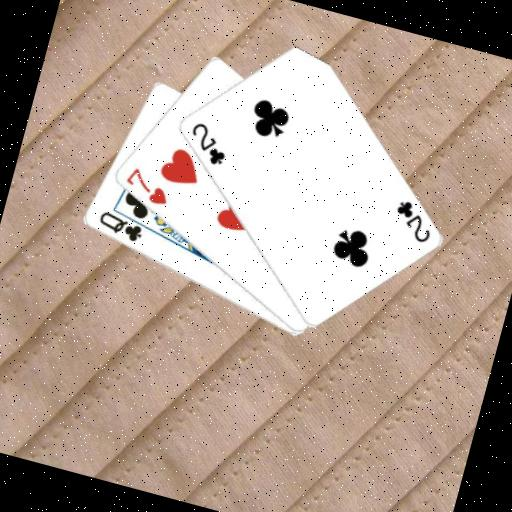2C: (180, 117, 234, 169), (386, 194, 439, 246)
7H: (118, 162, 175, 209)
QC: (92, 207, 147, 246)
